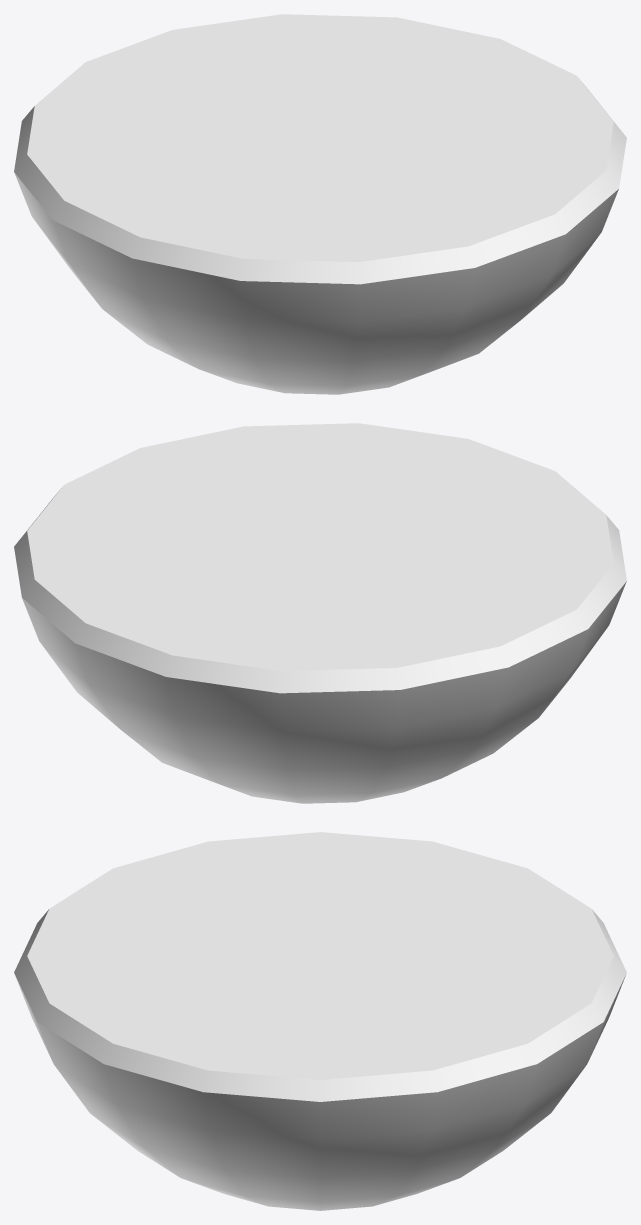
File: Leg_01.fbx
3 renders of one model, top to bottom at view 1: azimuth 30°, elevation 25°; view 2: azimuth 150°, elevation 25°; view 3: azimuth 270°, elevation 25°, orthographic.
Visible parts, largest first — view 1: Leg_01; view 2: Leg_01; view 3: Leg_01.
Boxes of the visible parts, x1,y1,x2,y2 form: Leg_01: (14, 14, 626, 394); Leg_01: (14, 423, 626, 803); Leg_01: (14, 832, 626, 1210).
Size of the model in its own units: 95.42 by 38.87 by 95.42.
